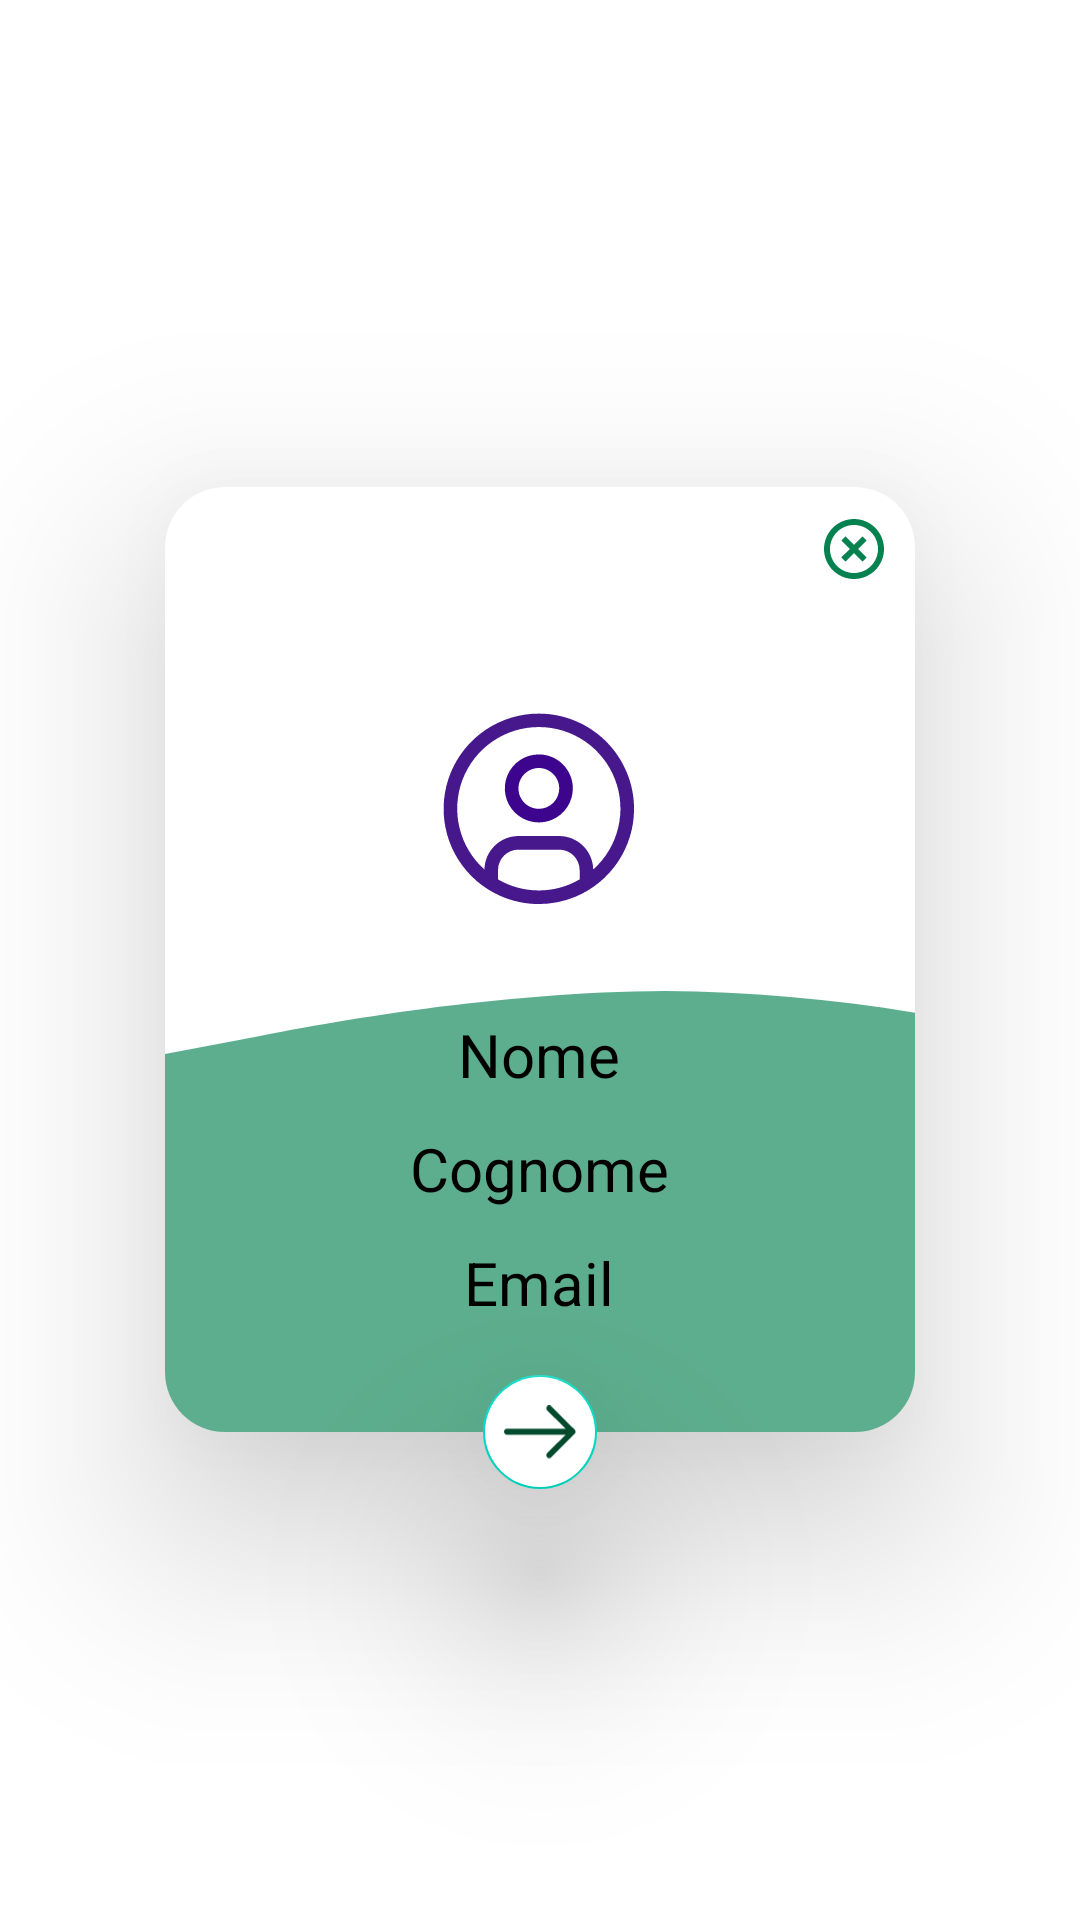

Point at icon controls on the screen. Image size 1080 x 1920, points as [x,y].
arrow: [540,1432]
close circle line: [854,549]
